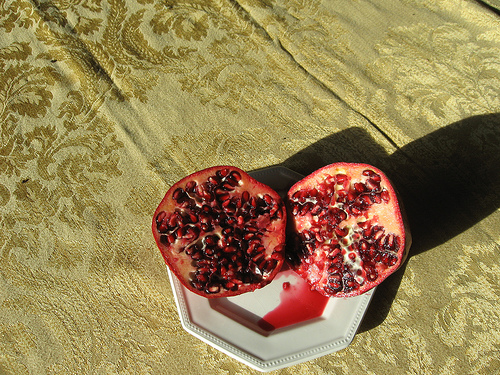pomogranate: (149, 165, 287, 302), (286, 160, 413, 301)
